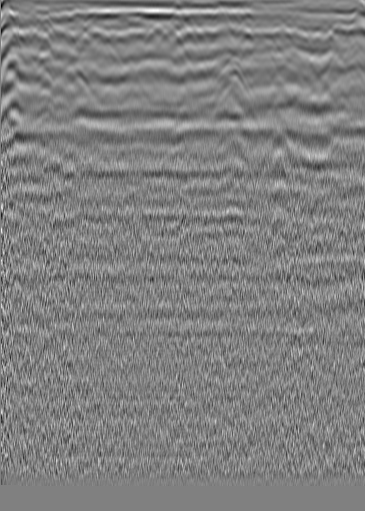가스: (213, 127, 249, 165)
상수: (308, 20, 334, 46)
오수: (27, 27, 47, 47)
우수: (146, 24, 166, 44)
